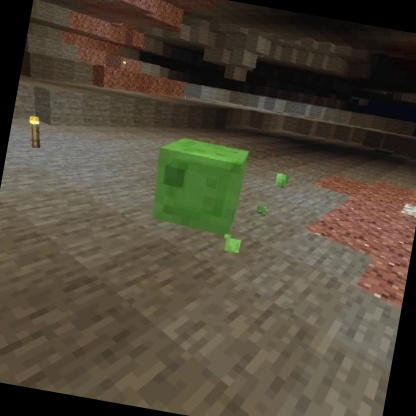slime: (143, 129, 254, 242)
